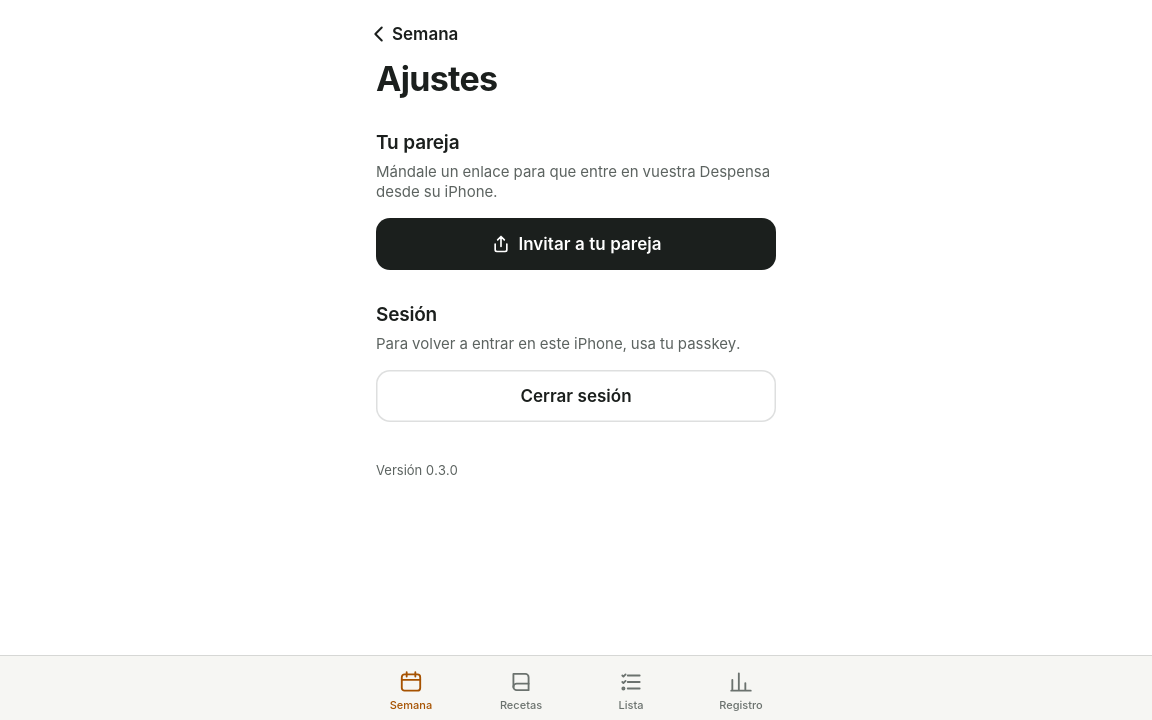
Test: Ajustes › sin red al invitar lo dice con la frase de enviar
Click the button "Invitar a tu pareja".
click(576, 244)  # box x1=376 y1=218 x2=776 y2=270
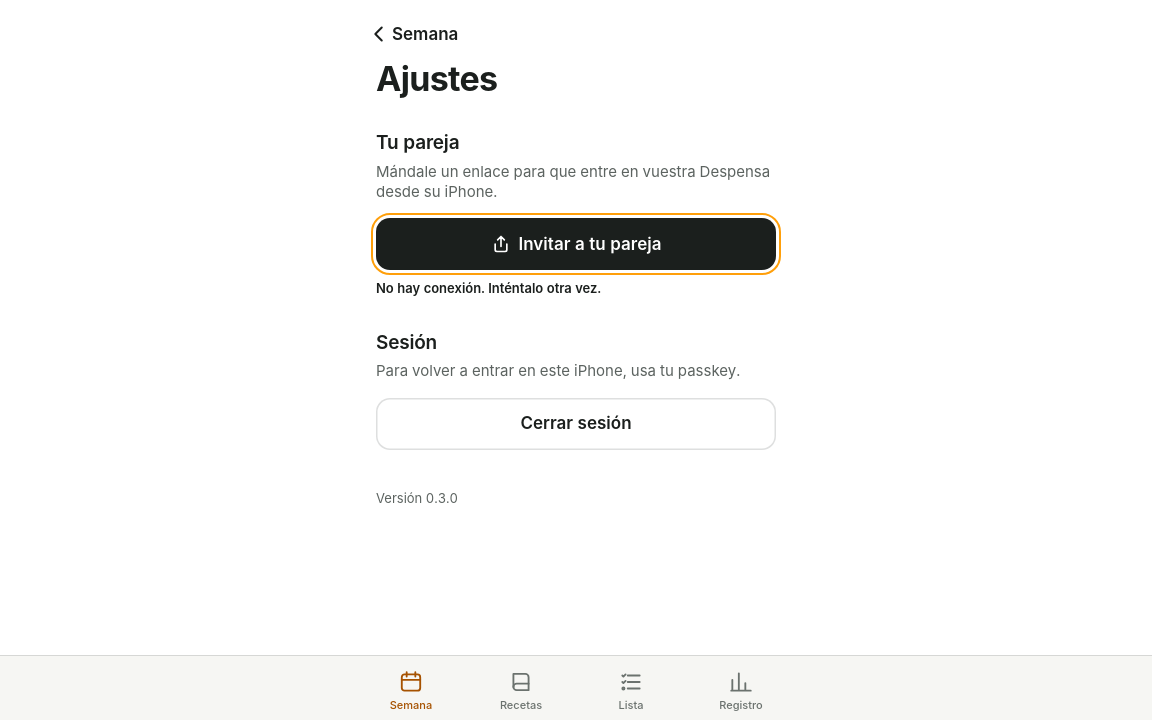
Result: the message reads "No hay conexión. Inténtalo otra vez." at x1=376 y1=280 x2=601 y2=296
